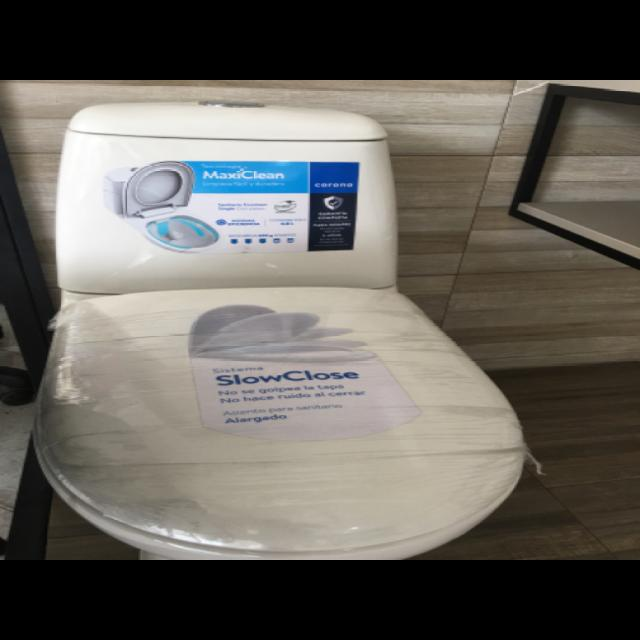toilet: (29, 99, 531, 560)
